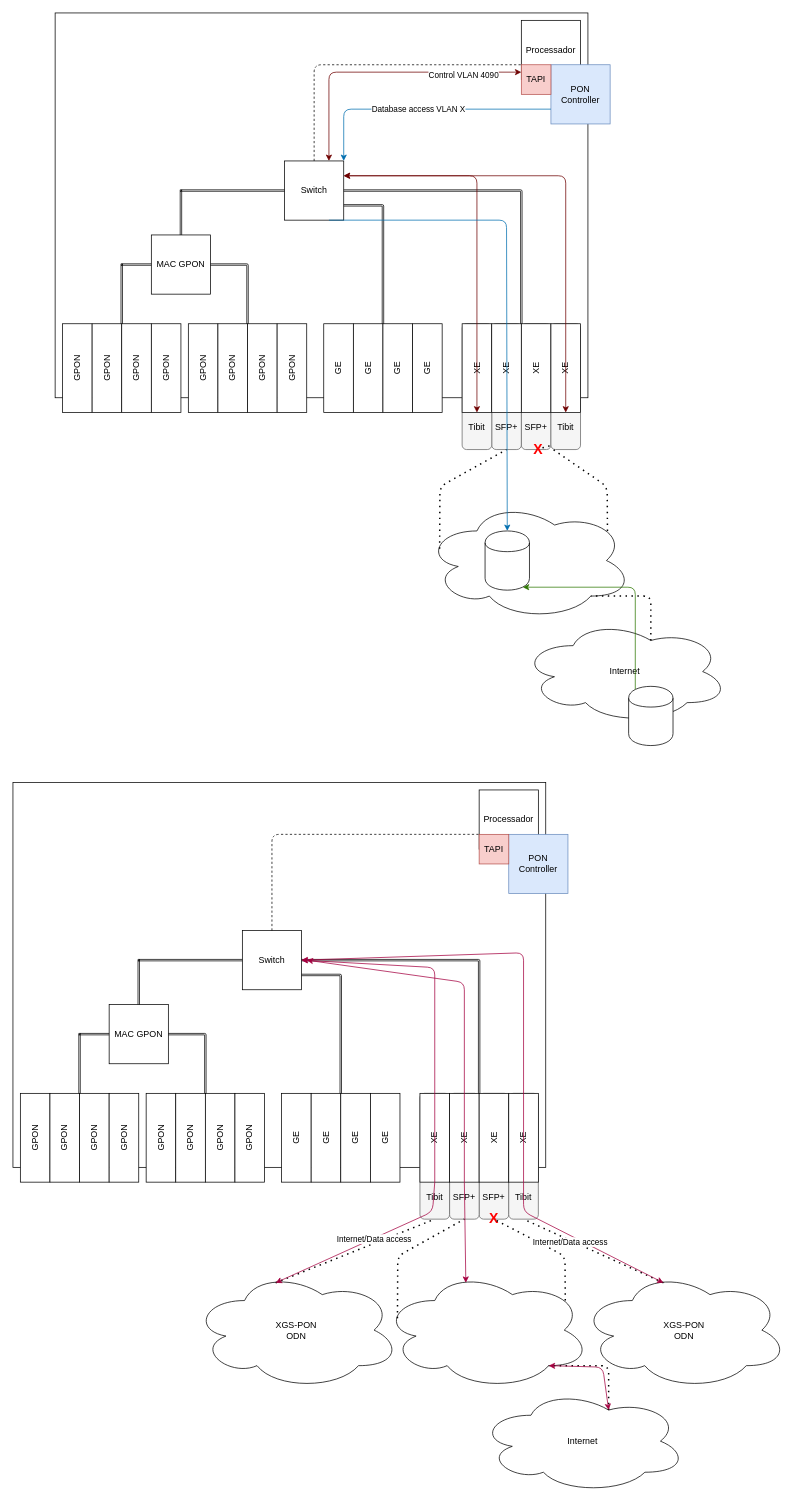
This 801x1506 diagram has some shape labels left out. The centre of each missing label's shape, as x and y in pixels:
"Carrier Network" belongs at [486,1329].
"Laserway Manager" belongs at [650,716].
"Mongo DB" belongs at [506,560].
